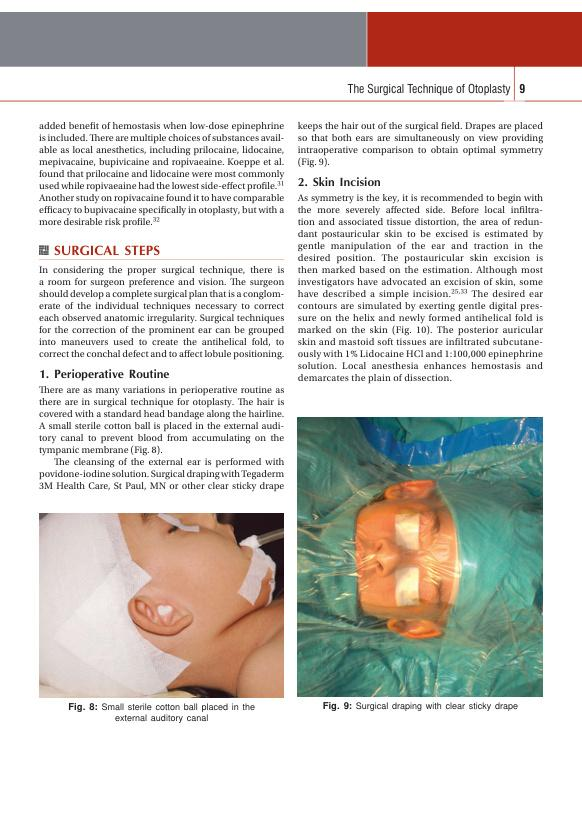caption: (67, 701, 257, 724)
header: (346, 82, 512, 97)
image: (296, 416, 544, 697), (39, 512, 285, 699)
section-heading: (52, 243, 162, 256)
sub-section-heading: (322, 700, 519, 713), (37, 367, 171, 382), (296, 175, 382, 187)
text: (297, 193, 544, 385), (38, 121, 286, 230), (37, 384, 286, 491), (37, 265, 286, 361), (297, 120, 545, 169)
